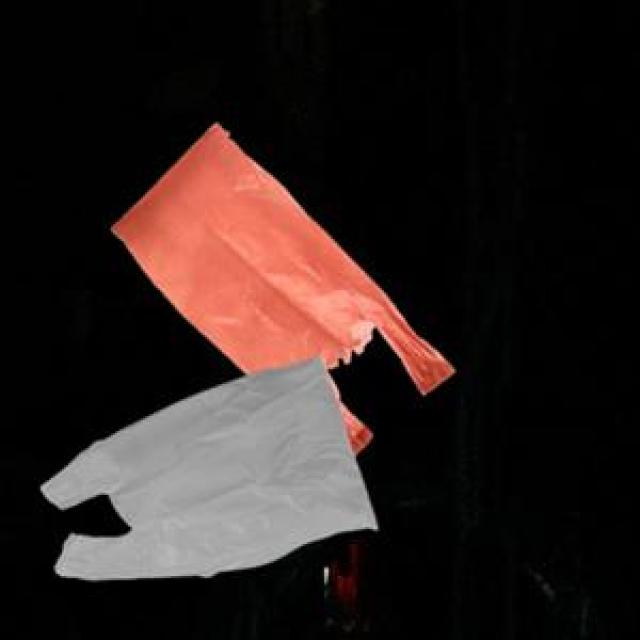plastic: (20, 106, 495, 614)
